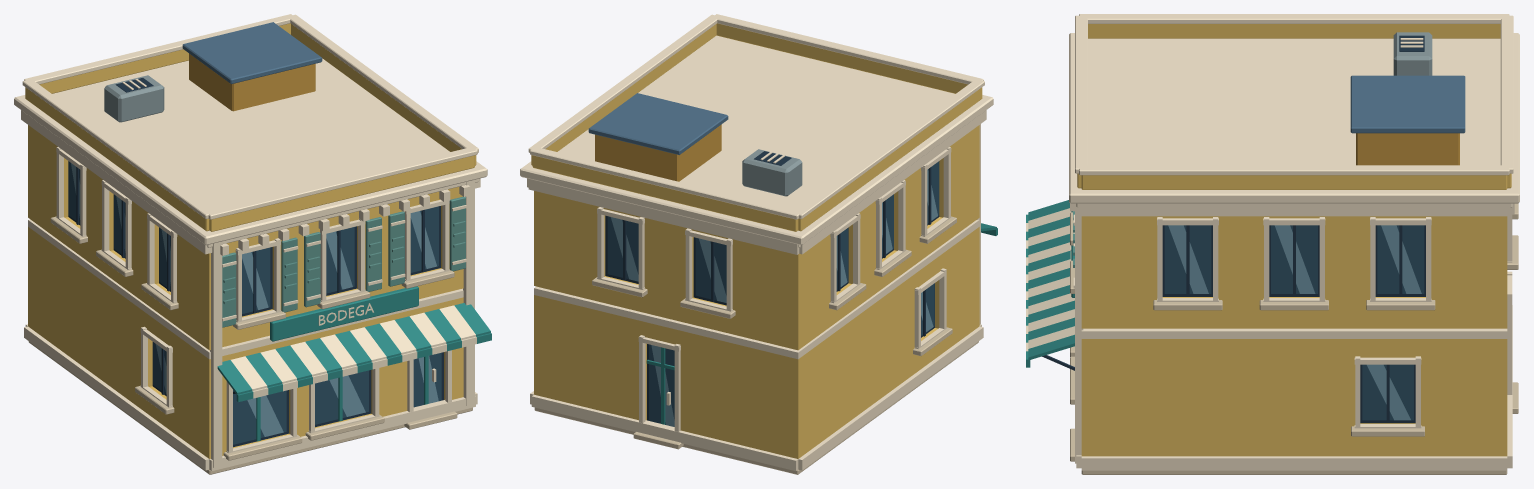
Rendered from everyday_bodega.glb.
3 renders of one model, left to right at view 1: azimuth 30°, elevation 25°; view 2: azimuth 150°, elevation 25°; view 3: azimuth 270°, elevation 25°, orthographic. The views are drawn at different scales.
Visible parts, largest first — view 1: EverydayBodega_StaticMesh; view 2: EverydayBodega_StaticMesh; view 3: EverydayBodega_StaticMesh.
Boxes of the visible parts, bbox=[...] form: EverydayBodega_StaticMesh: bbox=[14, 14, 491, 474]; EverydayBodega_StaticMesh: bbox=[520, 14, 997, 474]; EverydayBodega_StaticMesh: bbox=[1026, 14, 1519, 474].
Size of the model in its own units: 7.92 by 7.46 by 10.2.
